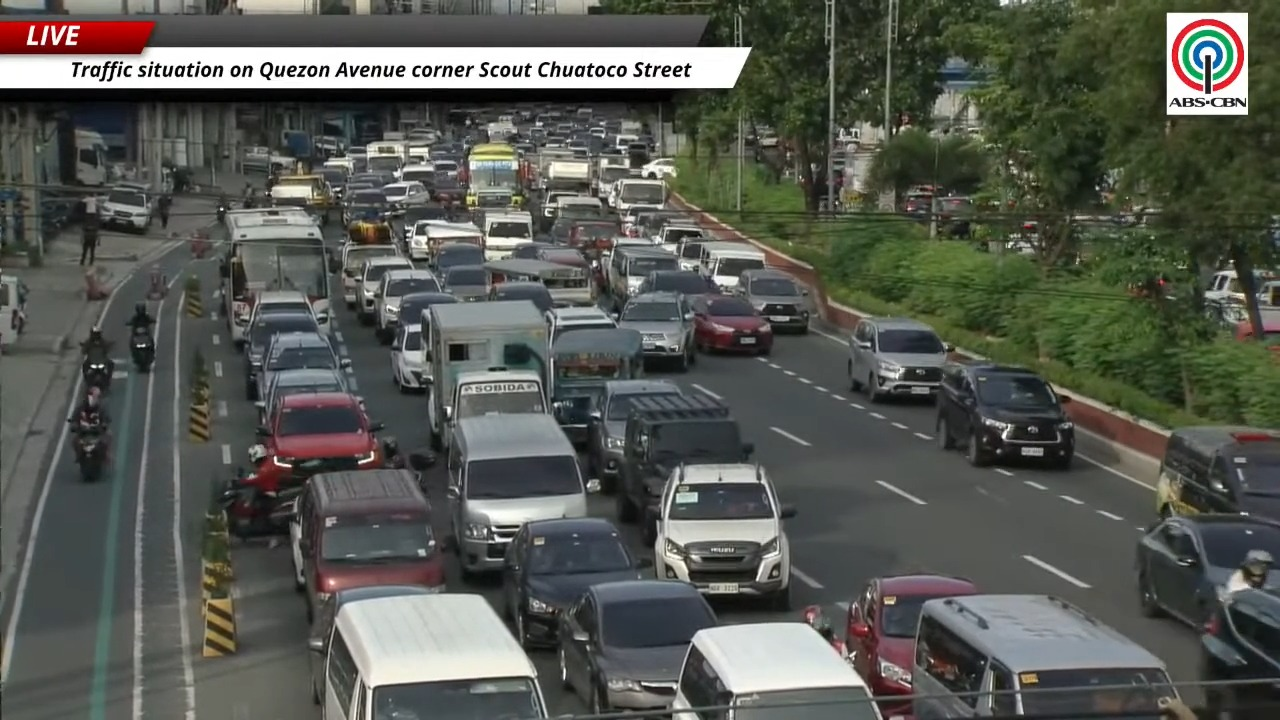bus: (220, 214, 331, 347), (463, 143, 526, 207)
car: (646, 463, 795, 610), (558, 579, 717, 713), (835, 574, 978, 717), (502, 518, 641, 647), (1136, 514, 1279, 626), (308, 584, 435, 703), (935, 362, 1074, 469), (255, 392, 383, 486), (1155, 426, 1279, 519), (586, 379, 682, 494), (1199, 588, 1279, 719), (847, 317, 953, 402), (244, 312, 320, 400), (253, 332, 349, 399), (616, 292, 695, 371), (255, 368, 350, 423), (375, 268, 440, 343), (691, 295, 773, 354), (737, 268, 809, 333), (339, 243, 401, 309), (357, 254, 412, 325), (390, 324, 429, 392), (547, 306, 616, 344), (98, 185, 152, 233), (637, 270, 719, 297), (398, 291, 456, 327), (488, 281, 553, 313), (250, 291, 313, 324), (396, 202, 447, 242), (441, 265, 490, 302), (433, 242, 483, 277), (342, 188, 389, 225), (567, 220, 618, 247), (381, 181, 428, 207), (535, 245, 583, 266), (508, 241, 546, 259)
motorcycle: (219, 460, 322, 537), (219, 473, 304, 538), (802, 605, 850, 661), (75, 424, 104, 482), (130, 327, 155, 372), (82, 357, 111, 392), (216, 201, 228, 223)
truck: (427, 300, 549, 450), (445, 369, 548, 445), (592, 156, 632, 203), (545, 160, 591, 193), (280, 129, 313, 160)
